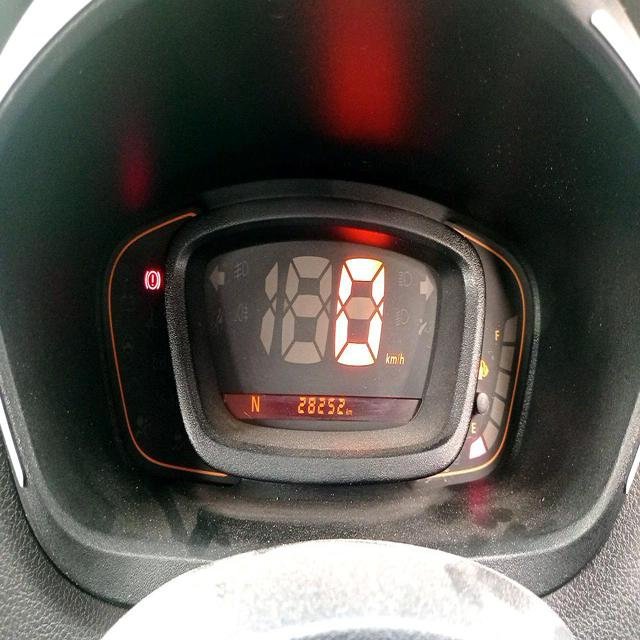odometer: (296, 394, 346, 416)
